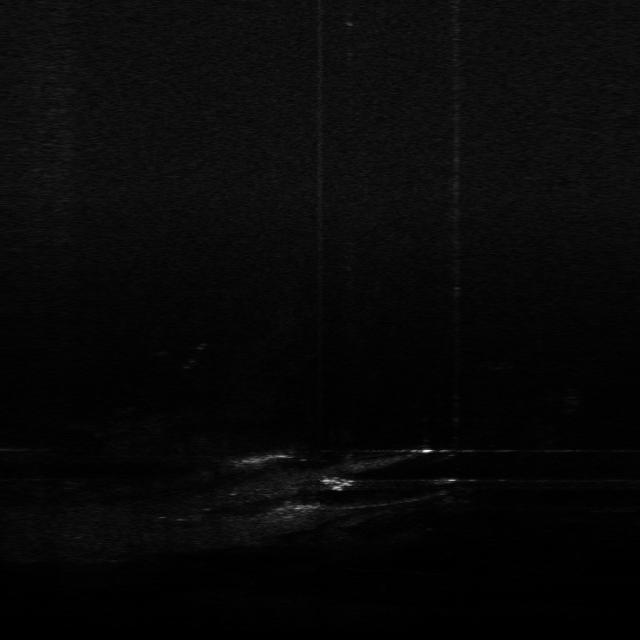rov: (316, 472, 360, 495)
